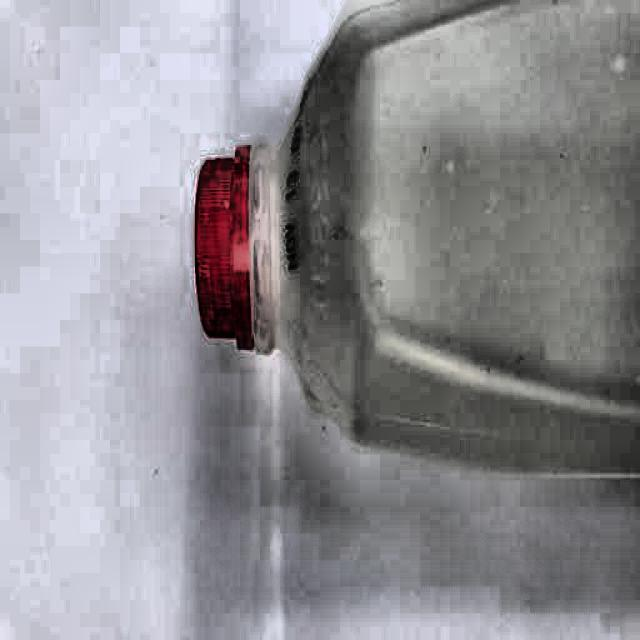plastic: (191, 1, 640, 476)
